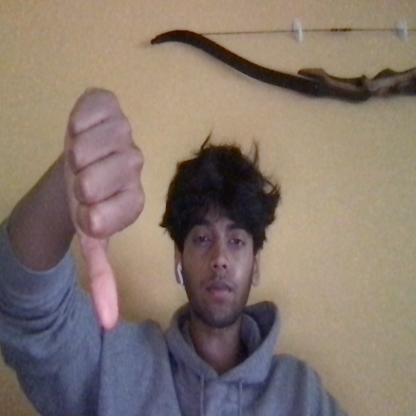Thumbs-Down: (44, 72, 149, 336)
